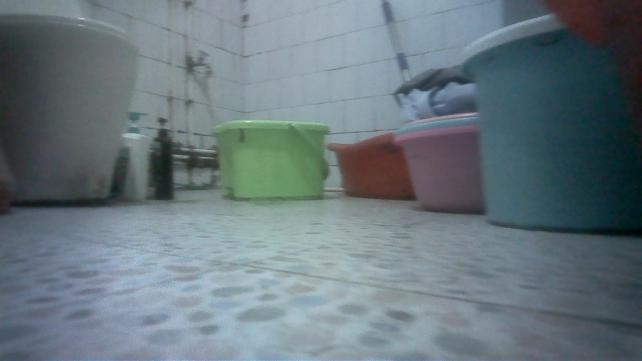toilet: (5, 7, 141, 199)
